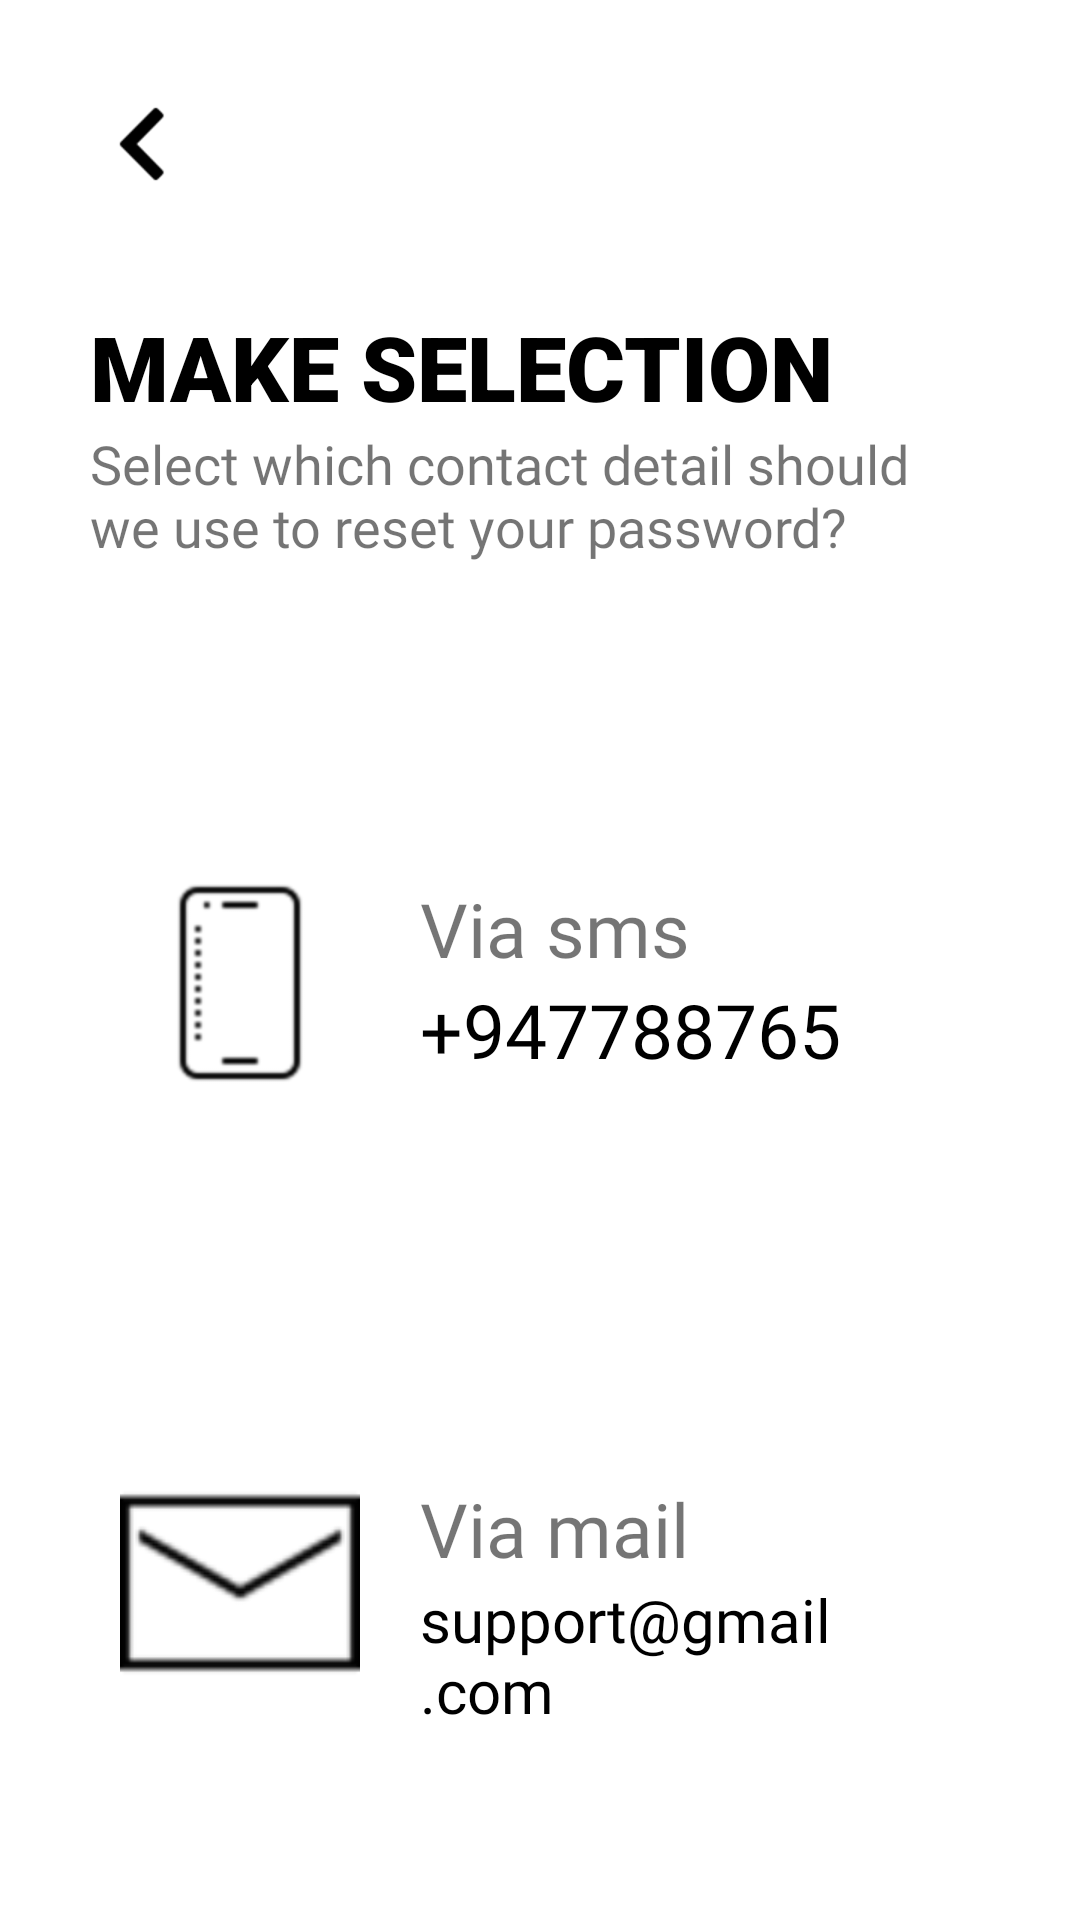

Screen size 1080*1920. Icon name, then its box in pixels as (x1, y1, x2, y2):
general back: (119, 107, 164, 181)
mobile custom: (178, 885, 302, 1081)
